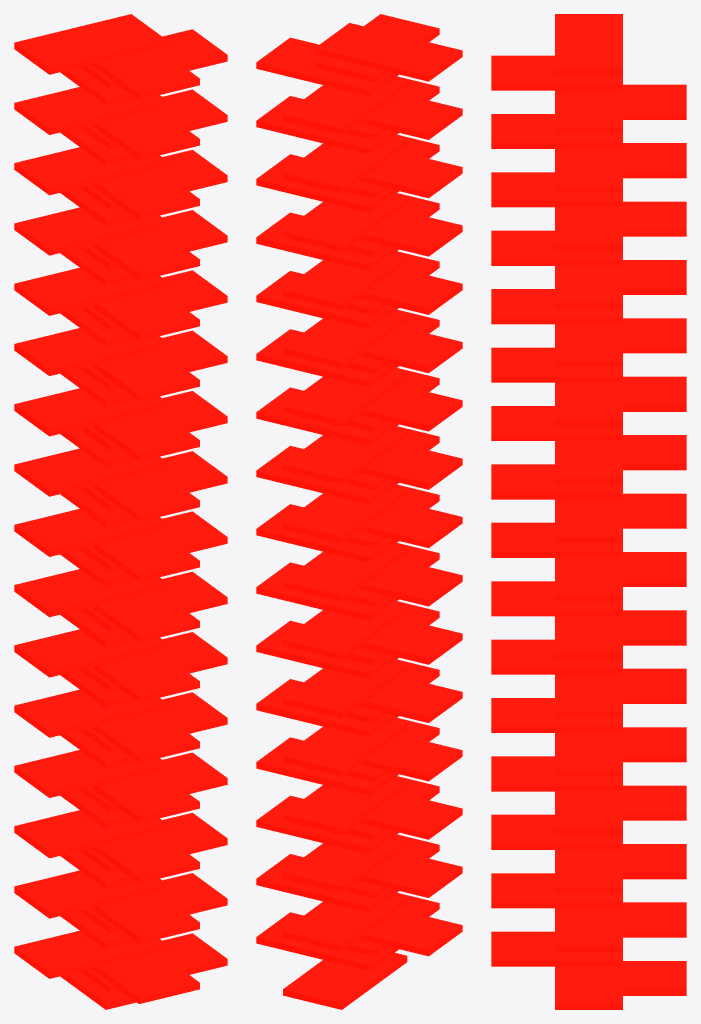
The model's file is VRenvironment2.fbx.
The picture shows the model from 3 angles, left to right: view 1: azimuth 30°, elevation 25°; view 2: azimuth 150°, elevation 25°; view 3: azimuth 270°, elevation 25°; orthographic projection. The views are drawn at different scales.
Visible parts, largest first — view 1: glowStack.000; view 2: glowStack.000; view 3: glowStack.000.
Part boxes in pixels (x1,y1,x2,y2): glowStack.000: [14, 14, 227, 1009]; glowStack.000: [256, 14, 462, 1009]; glowStack.000: [491, 14, 686, 1009].
Size of the model in its own units: 4955 by 25373 by 4855.
